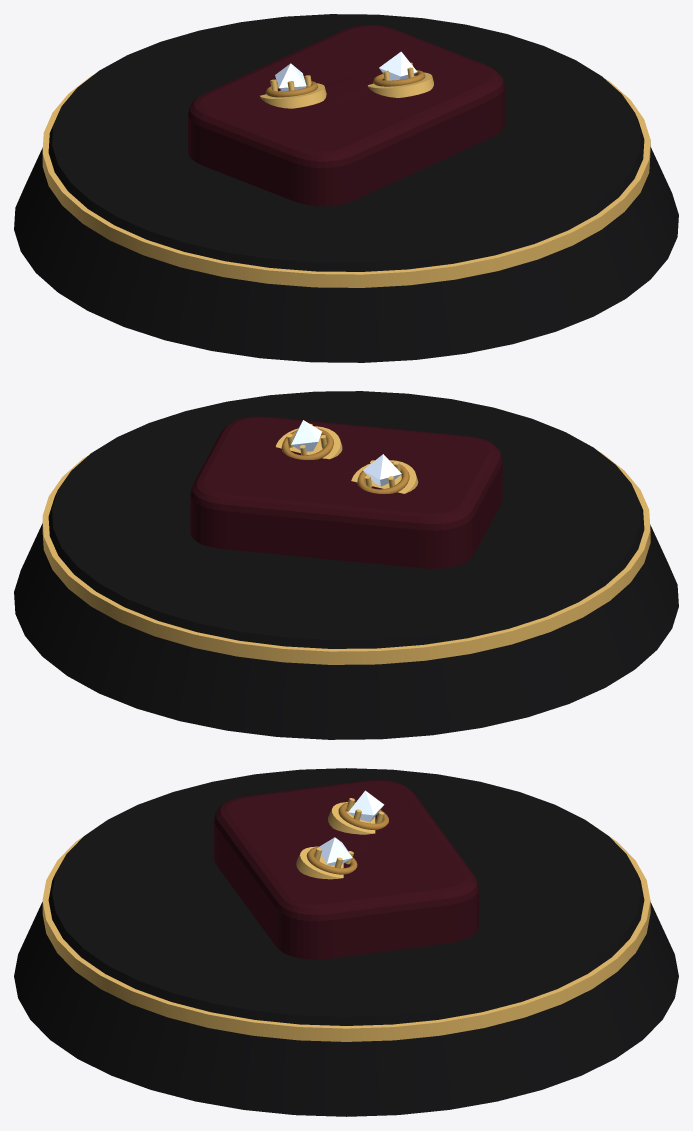
The model's file is diamond-cufflinks.glb.
3 renders of one model, top to bottom at view 1: azimuth 30°, elevation 25°; view 2: azimuth 150°, elevation 25°; view 3: azimuth 270°, elevation 25°, orthographic.
Parts seen in each view (by area): view 1: black, velvet, gold, gem, gold-dark; view 2: black, velvet, gold, gem, gold-dark; view 3: black, velvet, gold, gem, gold-dark.
Boxes of the visible parts, x1,y1,x2,y2 form: black: [14, 14, 678, 362]; velvet: [188, 25, 504, 206]; gold: [42, 62, 650, 287]; gem: [275, 51, 417, 91]; gold-dark: [266, 70, 425, 97]; black: [14, 391, 678, 739]; velvet: [190, 416, 502, 568]; gold: [42, 424, 650, 664]; gem: [291, 420, 401, 486]; gold-dark: [281, 428, 409, 493]; black: [14, 768, 678, 1116]; velvet: [214, 780, 478, 959]; gold: [42, 798, 650, 1041]; gem: [317, 790, 384, 865]; gold-dark: [306, 802, 388, 874].
Bounding box in the file's own units: 0.252 × 0.0683 × 0.252.
